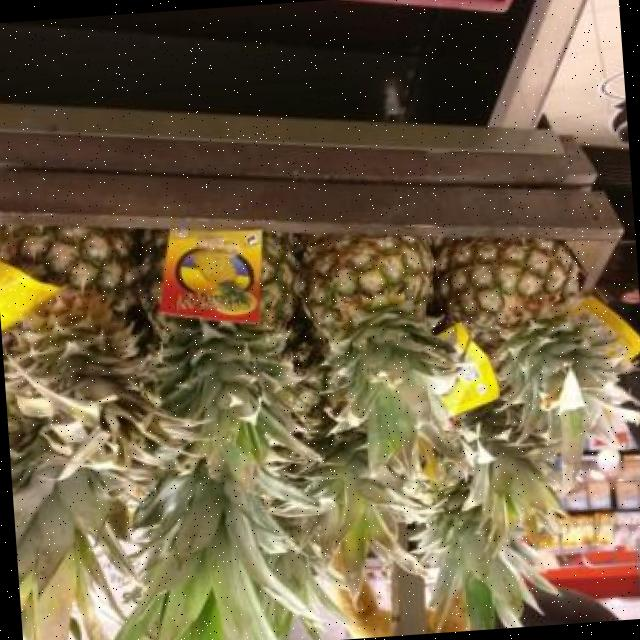pineapple: (113, 234, 325, 640), (0, 228, 190, 640), (433, 237, 623, 443), (304, 235, 454, 462)
